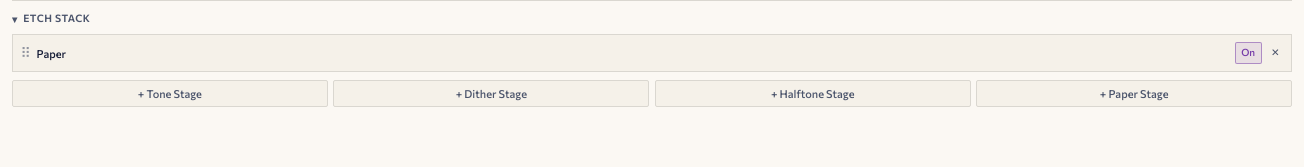
Test: EtchStackRack › the Paper body exposes grain + scale controls (no seed control — it is stable doc state)
Click the button with test id "etch-stage-expand" at (51, 53), box [36, 44, 1229, 62]
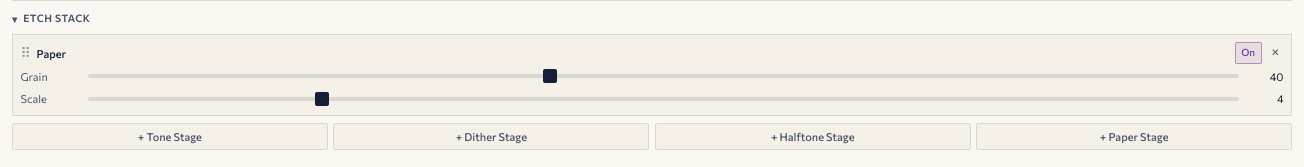
Check: the slider with test id "paper-grain" is shown, box [88, 74, 1238, 78]
Check: the slider with test id "paper-scale" is shown, box [88, 97, 1238, 101]
